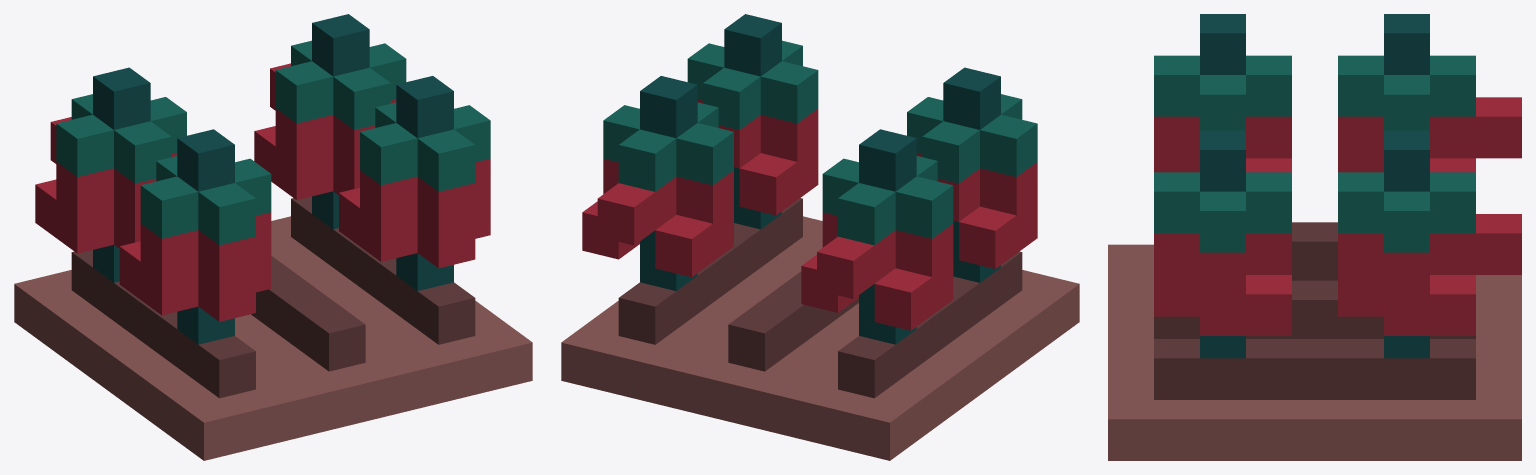
Rendered from Red Pepper 3.obj.
3 views of the same model, side by side, from view 1: azimuth 30°, elevation 25°; view 2: azimuth 150°, elevation 25°; view 3: azimuth 270°, elevation 25° (orthographic). The views are drawn at different scales.
Bounding box in the file's own units: 0.9 × 0.7 × 0.9.
1 material, 1 textured.
